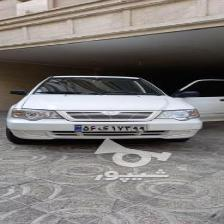plate: (74, 124, 148, 130)
